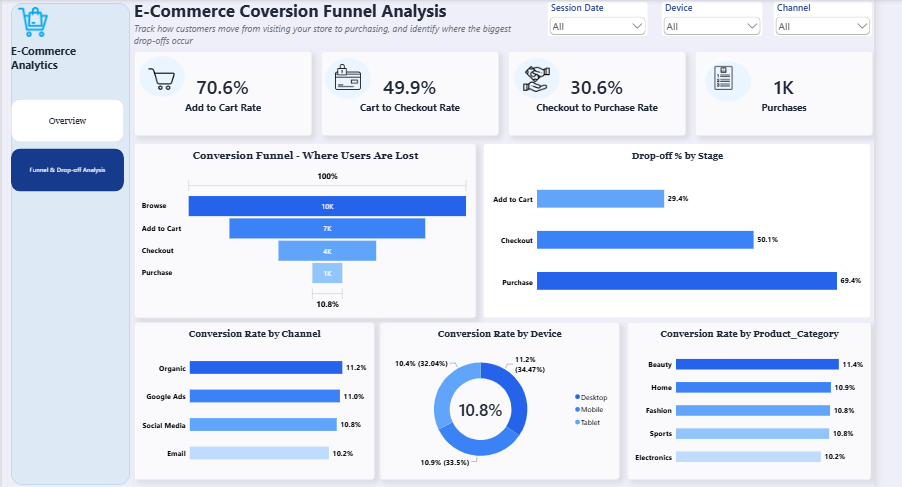

Layout of this report page (visuals, bound fields, positions):
{"tool":"powerbi","page":{"name":"Funnel & Drop-off Analysis","canvas":[1920,1080],"ordinal":1},"visuals":[{"type":"shape","box":[11,0,279.9,1080],"z":0},{"type":"shape","box":[290.9,0,859.6,66.1],"z":1000},{"type":"shape","box":[290.9,50.7,859.6,63.9],"z":2000},{"type":"slicer","fields":{"Values":["Sessions.SessionDate"]},"box":[1201.2,4.4,222.6,79.3],"z":3000},{"type":"slicer","fields":{"Values":["Sessions.Device"]},"box":[1452.5,4.4,224.8,79.3],"z":4000},{"type":"slicer","fields":{"Values":["Sessions.Channel"]},"box":[1699.3,4.4,220.4,79.3],"z":5000},{"type":"shape","box":[1539.8,127,101.4,90.4],"z":16000},{"type":"funnel","title":"Conversion Funnel - Where Users Are Lost","fields":{"Category":["Stages.Stage"],"Y":["Stages.Funnel Sessions"]},"box":[290.9,317.4,753.8,385.7],"z":18000},{"type":"clusteredBarChart","fields":{"Category":["Stages.Stage"],"Y":["Stages.Drop-off %"]},"box":[1060.2,317.4,855.2,385.7],"z":19000},{"type":"donutChart","fields":{"Category":["Sessions.Device"],"Y":["Sessions.Conversion Rate"]},"box":[830.9,711.9,530,348.2],"z":20000},{"type":"clusteredBarChart","fields":{"Category":["Sessions.Channel"],"Y":["Sessions.Conversion Rate"]},"box":[290.9,711.9,530,348.2],"z":21000},{"type":"clusteredBarChart","fields":{"Category":["Sessions.Product_Category"],"Y":["Sessions.Conversion Rate"]},"box":[1377.6,711.9,537.8,348.2],"z":22000},{"type":"image","box":[19.8,17.6,97,66.1],"z":23000},{"type":"pageNavigator","box":[19.8,220.4,249.1,205],"z":24000},{"type":"shape","box":[19.8,97,198.4,79.3],"z":25000},{"type":"cardVisual","title":"Total Sessions","fields":{"Data":["Sessions.Add to Cart Rate"]},"box":[290.9,114.6,392.3,187.3],"z":25001},{"type":"shape","box":[302,125.6,101.4,90.4],"z":25002},{"type":"image","box":[308.6,143.3,86,57.3],"z":25003},{"type":"cardVisual","title":"Total Sessions","fields":{"Data":["Sessions.Cart to Checkout Rate"]},"box":[703.1,114.6,392.3,187.3],"z":25004},{"type":"shape","box":[711.9,130,101.4,90.4],"z":25005},{"type":"image","box":[711.9,143.3,101.4,57.3],"z":25006},{"type":"cardVisual","title":"Total Sessions","fields":{"Data":["Sessions.Checkout to Purchase Rate"]},"box":[1115.3,114.6,392.3,187.3],"z":25007},{"type":"cardVisual","title":"Total Sessions","fields":{"Data":["Sessions.Purchases"]},"box":[1527.4,114.6,392.3,187.3],"z":25008},{"type":"shape","box":[1128.7,130.2,101.4,90.4],"z":25009},{"type":"image","box":[1135.3,147.8,86,57.3],"z":25010},{"type":"shape","box":[1549.8,137,101.4,90.4],"z":25011},{"type":"image","box":[1546.4,144.6,86,57.3],"z":25012}]}

Visuals, with their boxes on the page's 1920x1080 design canvas (x1, y1, x2, y2). These are canvas units, not pixel positions in the 902x487 screenshot, which may show the page scaled, cropped or inside an application window:
shape: rect(11, 0, 291, 1080)
shape: rect(291, 0, 1150, 66)
shape: rect(291, 51, 1150, 115)
slicer - Sessions.SessionDate: rect(1201, 4, 1424, 84)
slicer - Sessions.Device: rect(1452, 4, 1677, 84)
slicer - Sessions.Channel: rect(1699, 4, 1920, 84)
shape: rect(1540, 127, 1641, 217)
"Conversion Funnel - Where Users Are Lost" funnel: rect(291, 317, 1045, 703)
clusteredBarChart - Stages.Stage x Stages.Drop-off %: rect(1060, 317, 1915, 703)
donutChart - Sessions.Device x Sessions.Conversion Rate: rect(831, 712, 1361, 1060)
clusteredBarChart - Sessions.Channel x Sessions.Conversion Rate: rect(291, 712, 821, 1060)
clusteredBarChart - Sessions.Product_Category x Sessions.Conversion Rate: rect(1378, 712, 1915, 1060)
image: rect(20, 18, 117, 84)
pageNavigator: rect(20, 220, 269, 425)
shape: rect(20, 97, 218, 176)
"Total Sessions" cardVisual: rect(291, 115, 683, 302)
shape: rect(302, 126, 403, 216)
image: rect(309, 143, 395, 201)
"Total Sessions" cardVisual: rect(703, 115, 1095, 302)
shape: rect(712, 130, 813, 220)
image: rect(712, 143, 813, 201)
"Total Sessions" cardVisual: rect(1115, 115, 1508, 302)
"Total Sessions" cardVisual: rect(1527, 115, 1920, 302)
shape: rect(1129, 130, 1230, 221)
image: rect(1135, 148, 1221, 205)
shape: rect(1550, 137, 1651, 227)
image: rect(1546, 145, 1632, 202)
